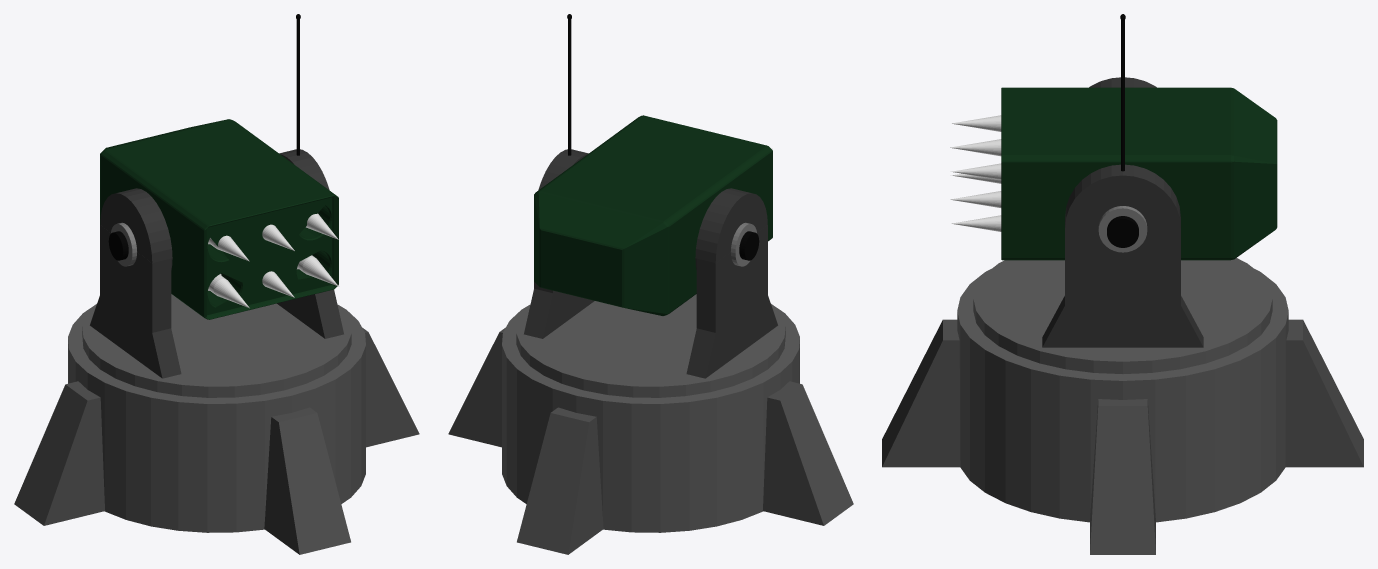
Rendered from Missle louncher.fbx.
The picture shows the model from 3 angles, left to right: view 1: azimuth 30°, elevation 25°; view 2: azimuth 150°, elevation 25°; view 3: azimuth 270°, elevation 25°; orthographic projection. The views are drawn at different scales.
Visible parts, largest first — view 1: Cylinder, Cylinder.001, Cube.004, Cylinder.013, Cylinder.003; view 2: Cylinder, Cylinder.001, Cube.004; view 3: Cylinder, Cylinder.001, Cube.004.
Part boxes in pixels (<box>): Cylinder: <box>14,304,419,554</box>; Cylinder.001: <box>82,14,351,397</box>; Cube.004: <box>100,119,338,319</box>; Cylinder.013: <box>208,274,249,308</box>; Cylinder.003: <box>297,255,338,286</box>; Cylinder: <box>448,304,853,554</box>; Cylinder.001: <box>516,14,785,397</box>; Cube.004: <box>534,115,772,315</box>; Cylinder: <box>882,269,1363,554</box>; Cylinder.001: <box>973,14,1272,373</box>; Cube.004: <box>1001,87,1277,260</box>.
Size of the model in its own units: 833 by 922 by 833.
